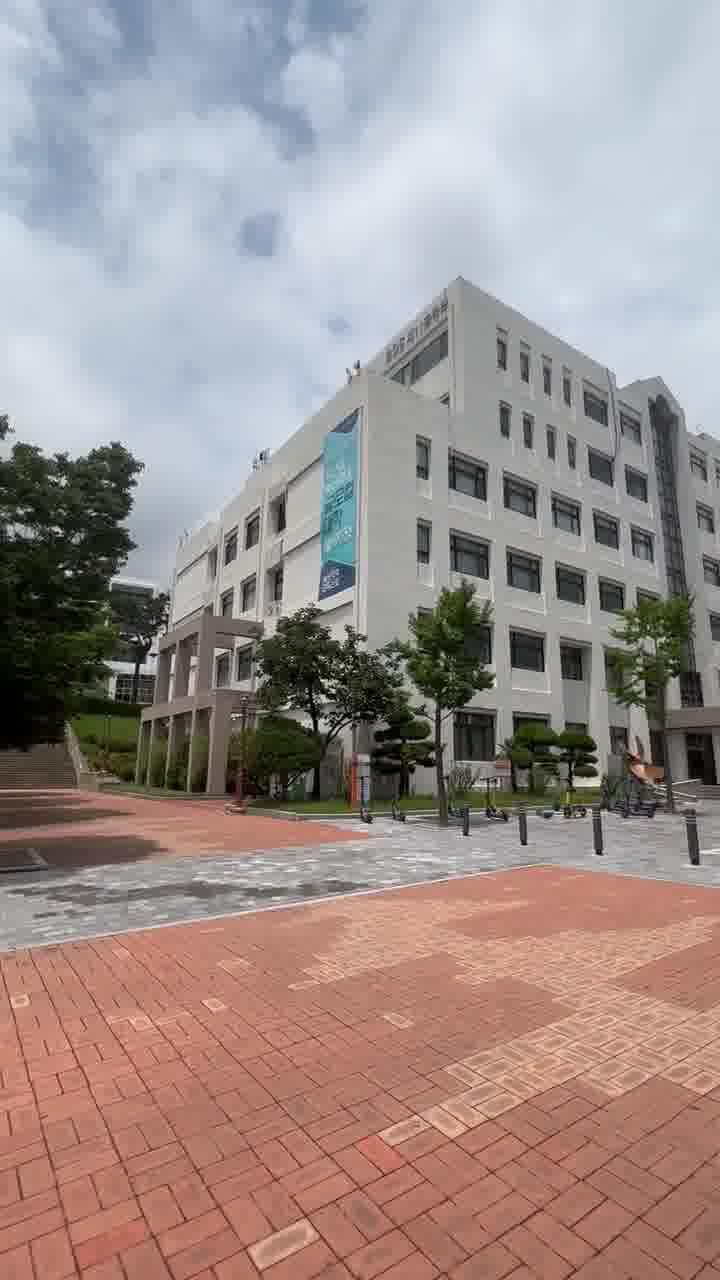building: (290, 304, 720, 604)
